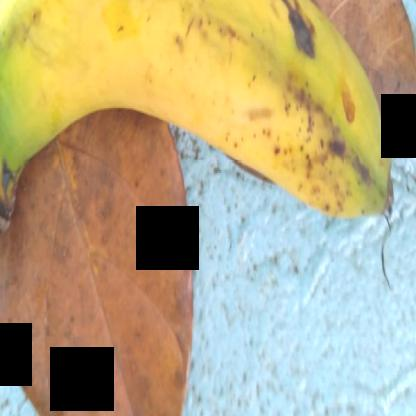ripe: (0, 1, 411, 242)
